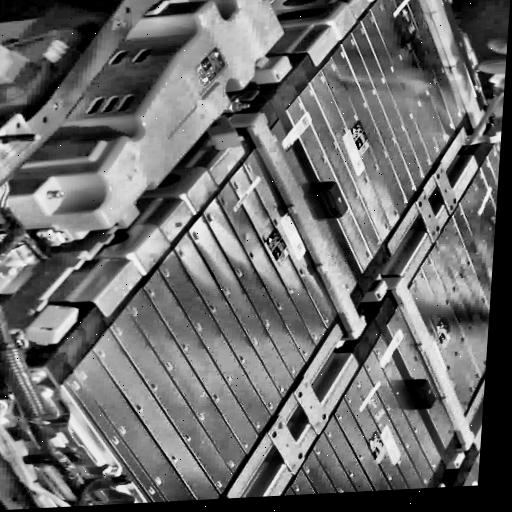battery_module: (60, 120, 357, 503), (284, 0, 479, 275), (386, 141, 500, 449)
busbar: (226, 112, 368, 347), (363, 274, 477, 469), (419, 0, 502, 145)
